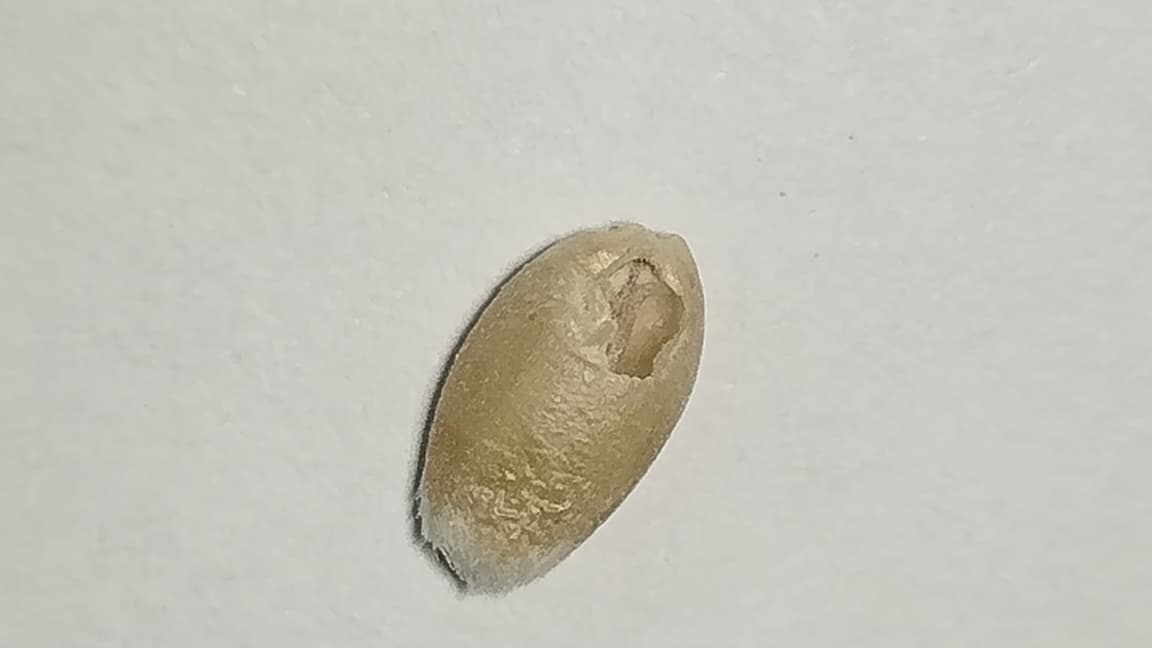damage: (410, 221, 704, 595)
insectdamage: (562, 253, 684, 388)
